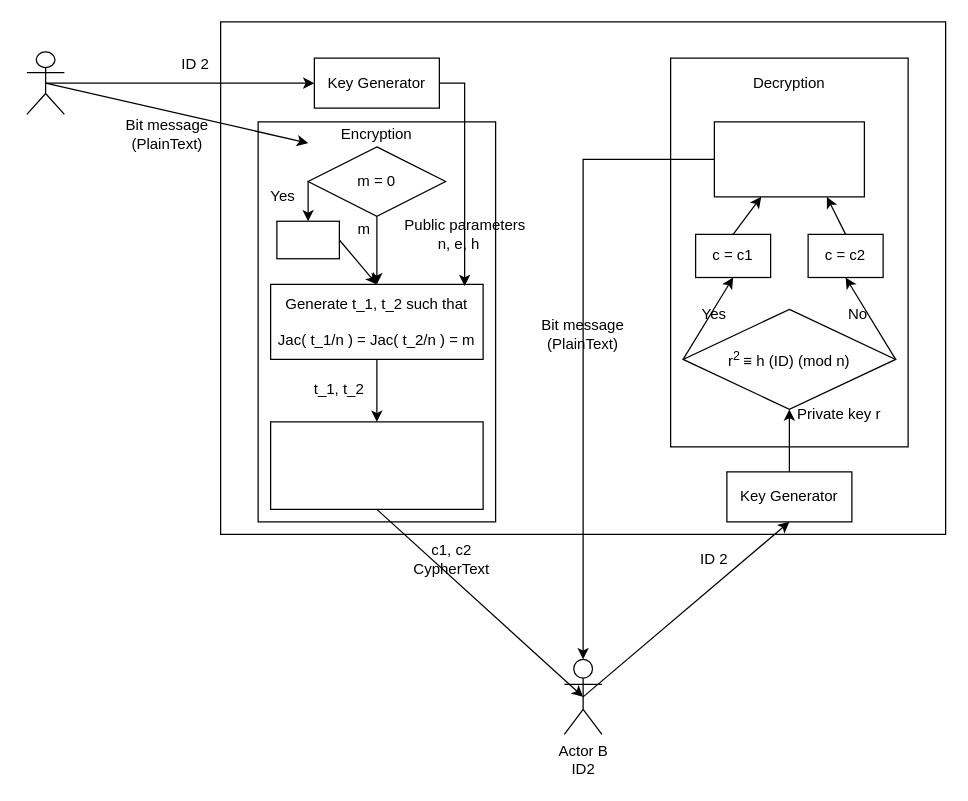
This 968x801 diagram has some shape labels left out. Here are the shapes that lost their labels. From the top down, the box of each, then its label:
(26, 51, 64, 114): Actor A ID 1
(713, 121, 864, 197): m = Jac( c+2r / n )
(276, 220, 339, 259): m= -1
(269, 421, 483, 509): a = h( ID 2 ) c1 = t_1 + a t_1 -1 c2 = t_2 - a t_2 -1
